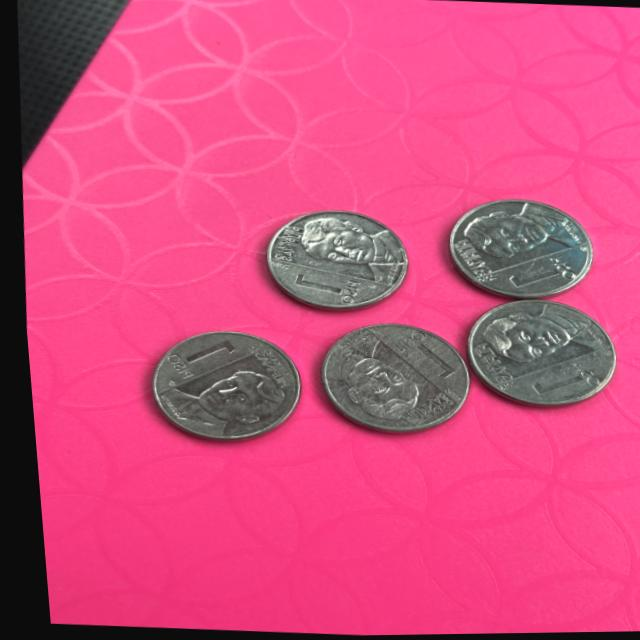1_New_Front: (514, 357, 597, 409), (155, 333, 227, 388), (498, 250, 573, 302), (381, 330, 449, 386), (280, 265, 358, 308)
